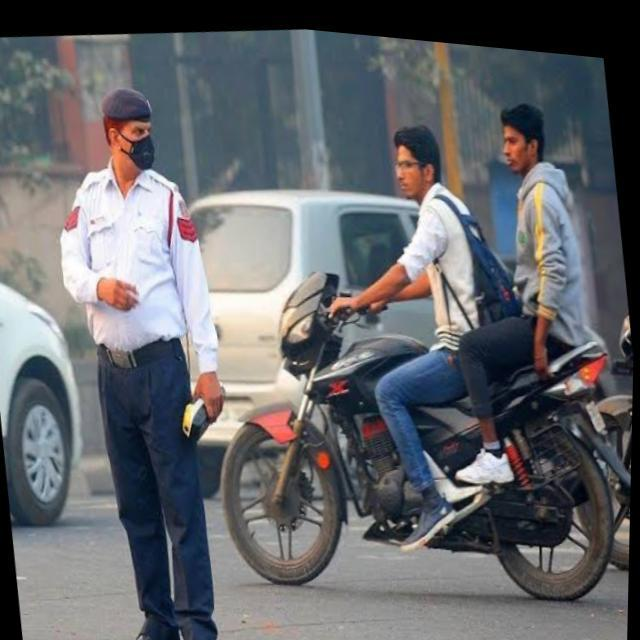Nonhelmet: (379, 112, 453, 210), (494, 98, 554, 180)
